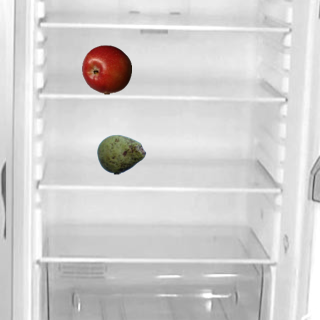Apple Braeburn: (81, 44, 131, 94)
Pear Stone: (96, 129, 146, 179)
